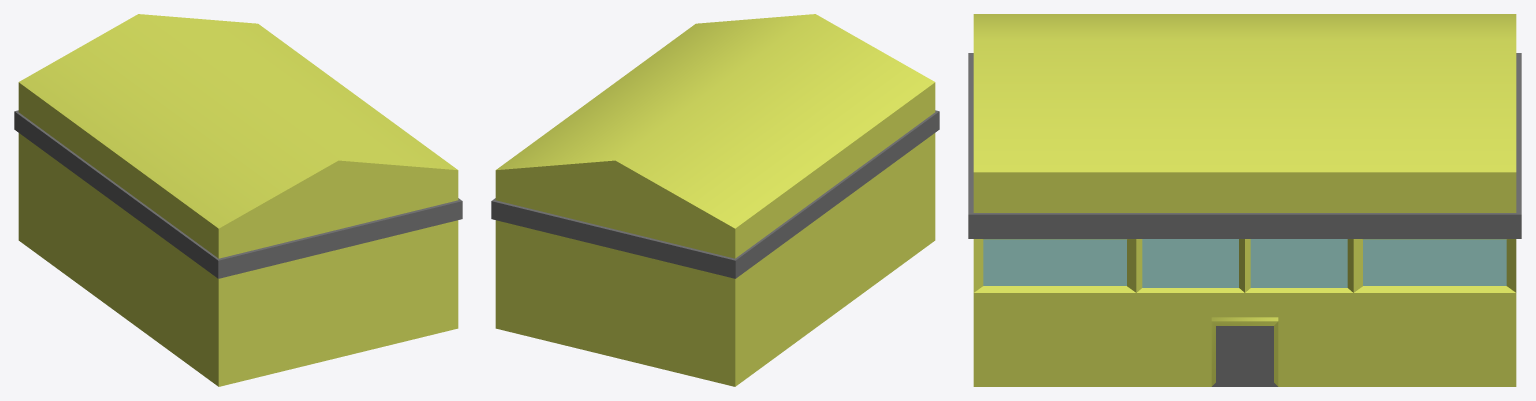
File: Warehouse.fbx
3 renders of one model, left to right at view 1: azimuth 30°, elevation 25°; view 2: azimuth 150°, elevation 25°; view 3: azimuth 270°, elevation 25°, orthographic. The views are drawn at different scales.
Parts seen in each view (by area): view 1: Warehouse; view 2: Warehouse; view 3: Warehouse.
Part boxes in pixels (bbox=[...]): Warehouse: bbox=[14, 14, 462, 386]; Warehouse: bbox=[491, 14, 939, 386]; Warehouse: bbox=[968, 14, 1521, 386].
Bounding box in the file's own units: 13.63 × 10.36 × 19.44.
